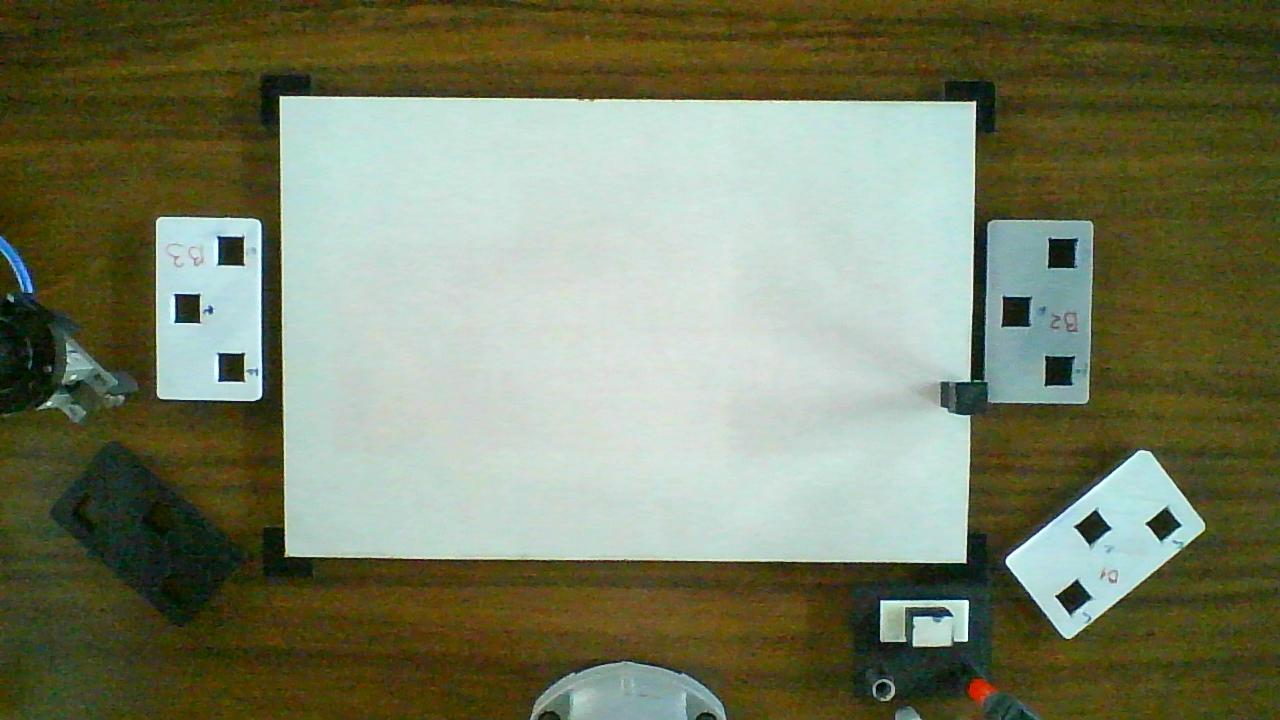peca_preta: (957, 383, 987, 414)
